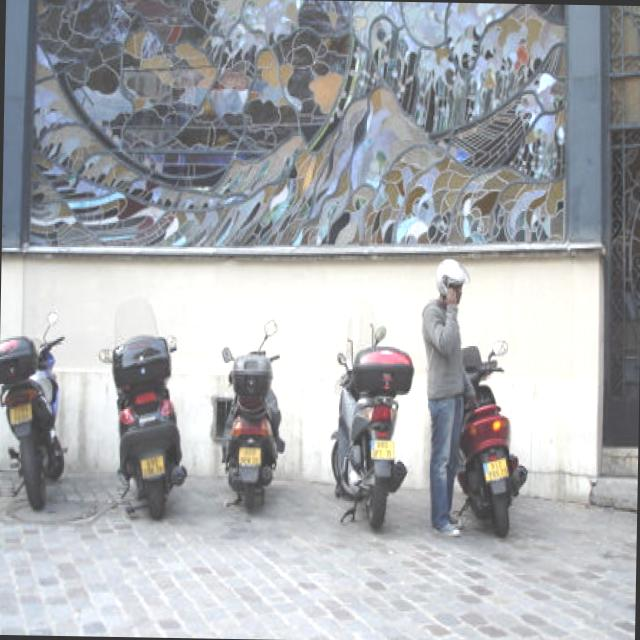Vehicle: (90, 295, 190, 522), (326, 324, 414, 528), (454, 336, 530, 538), (0, 310, 72, 515), (208, 318, 287, 504), (0, 333, 35, 389)
